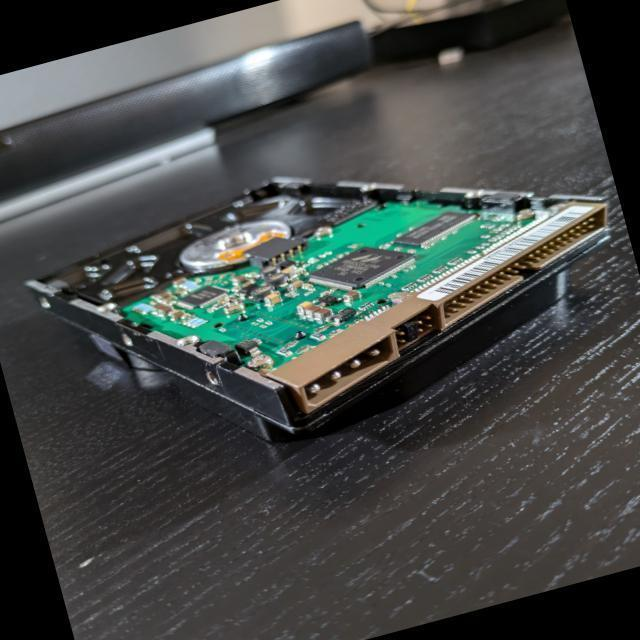DISK: (14, 93, 640, 496)
